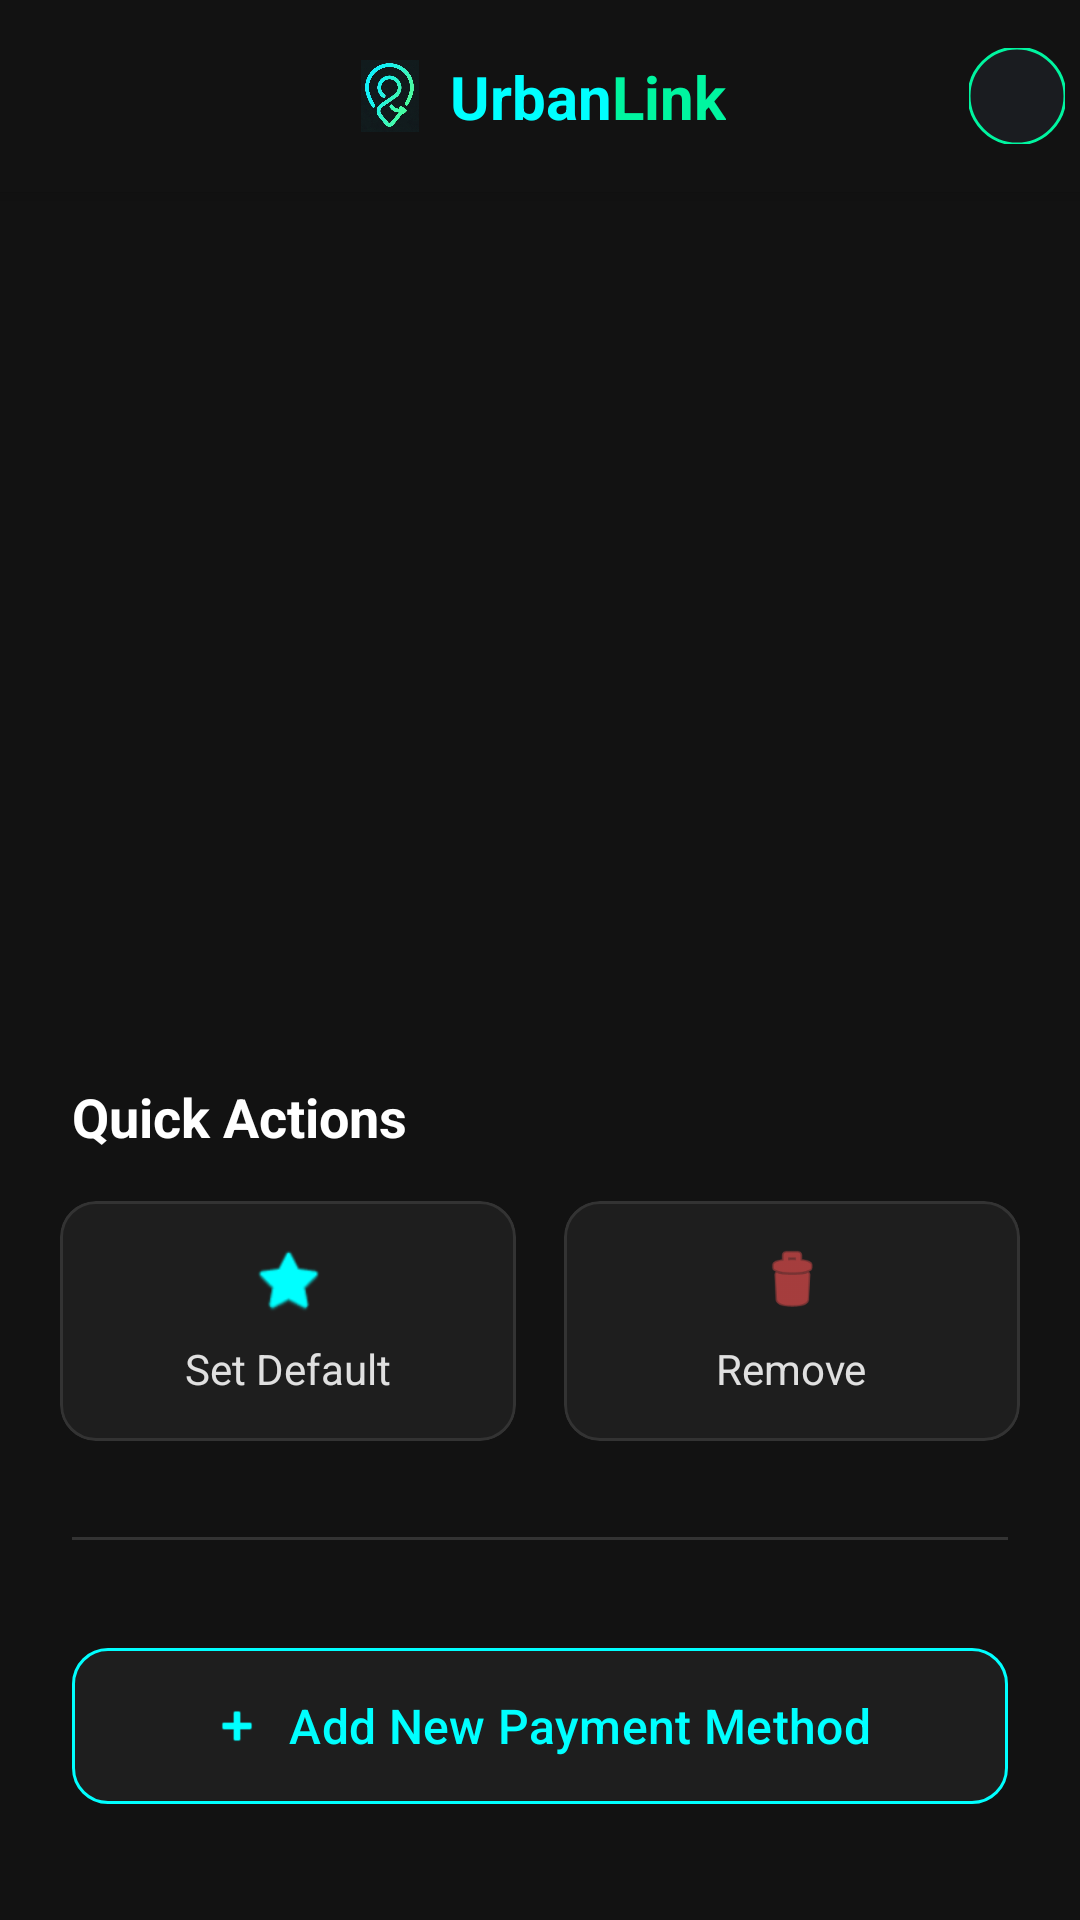

Where to tap for icons on this 1080×1920 app screen, as point (x, y):
delete: point (792, 1279)
star on: point (289, 1280)
